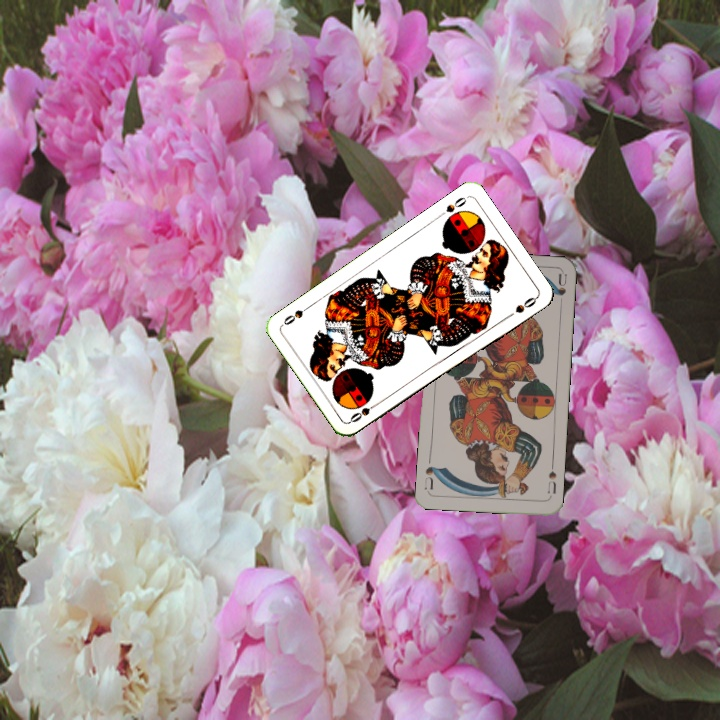SO: (346, 398, 382, 425), (434, 193, 470, 220)
SU: (544, 459, 559, 496)
